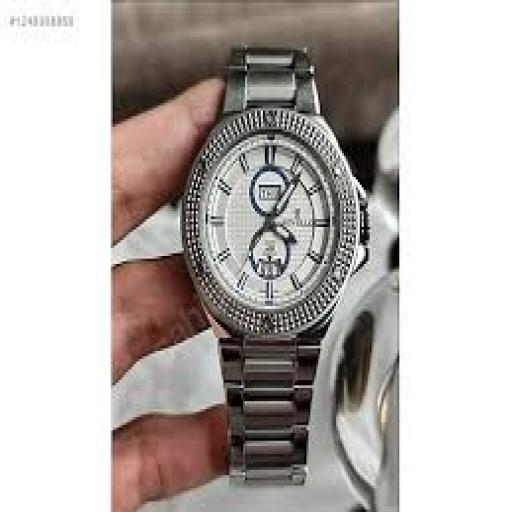KolSaati: (142, 18, 382, 512)
